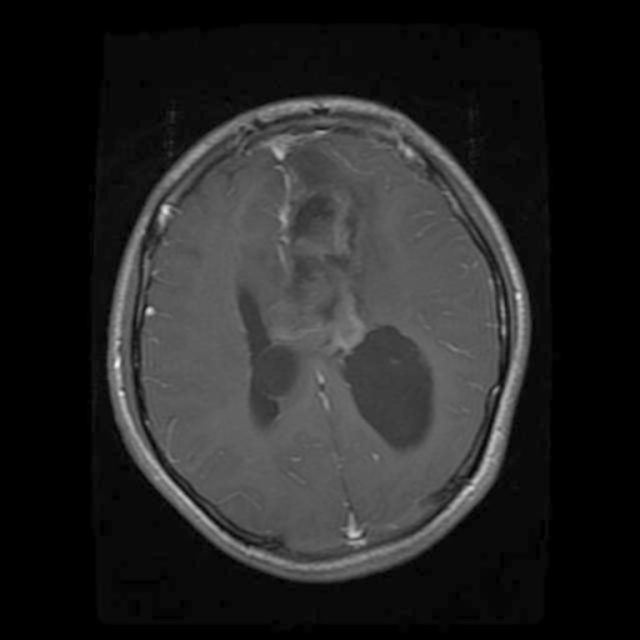pituitary tumor: (281, 192, 349, 342)
